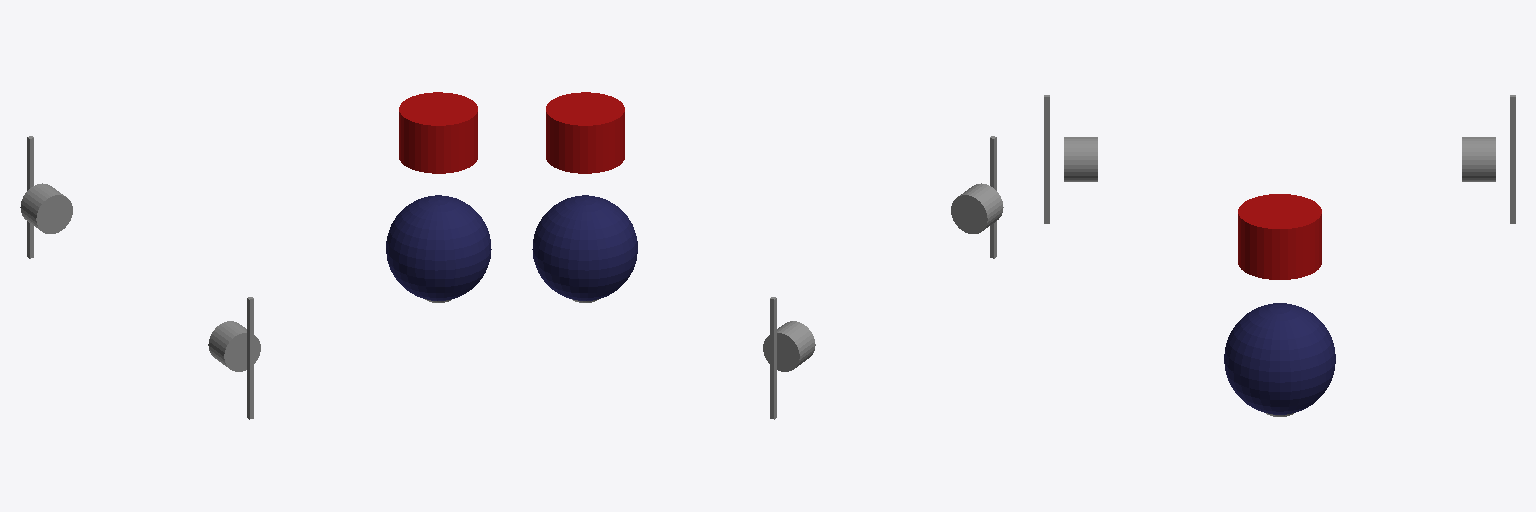
URDF robot description (robot):
<?xml version="1.0"?>

<robot name="robot">

    <!-- Materials -->
    <gazebo reference="link_chassis">
        <visual>
            <material> <!-- Blue -->
                <ambient>0.0 0.0 1.0 1.0</ambient>
                <diffuse>0.0 0.0 1.0 1.0</diffuse>
                <specular>0.0 0.0 0.0 1.0</specular>
                <emissive>0.0 0.0 0.0 1.0</emissive>
            </material>
        </visual>
    </gazebo>
    <gazebo reference="link_caster_wheel">
        <visual>
            <material> <!-- Gray -->
                <ambient>0.25 0.25 0.25 1.0</ambient>
                <diffuse>0.25 0.25 0.25 1.0</diffuse>
                <specular>0.0 0.0 0.0 1.0</specular>
                <emissive>0.0 0.0 0.0 1.0</emissive>
            </material>
        </visual>
        <collision>
            <surface>
                <friction>
                    <ode>
                        <mu>0.0</mu>
                        <mu2>0.0</mu2>
                    </ode>
                </friction>
            </surface>
        </collision>
    </gazebo>
    <gazebo reference="link_left_wheel">
        <visual>
            <material> <!-- Black -->
                <ambient>0.1 0.1 0.1 1.0</ambient>
                <diffuse>0.1 0.1 0.1 1.0</diffuse>
                <specular>0.0 0.0 0.0 1.0</specular>
                <emissive>0.0 0.0 0.0 1.0</emissive>
            </material>
        </visual>
        <collision>
            <surface>
                <friction>
                    <ode>
                        <mu>1.0</mu>
                        <mu2>1.0</mu2>
                    </ode>
                </friction>
            </surface>
        </collision>
    </gazebo>
    <gazebo reference="link_right_wheel">
        <visual>
            <material> <!-- Black -->
                <ambient>0.1 0.1 0.1 1.0</ambient>
                <diffuse>0.1 0.1 0.1 1.0</diffuse>
                <specular>0.0 0.0 0.0 1.0</specular>
                <emissive>0.0 0.0 0.0 1.0</emissive>
            </material>
        </visual>
        <collision>
            <surface>
                <friction>
                    <ode>
                        <mu>1.0</mu>
                        <mu2>1.0</mu2>
                    </ode>
                </friction>
            </surface>
        </collision>
    </gazebo>

    <!-- Link - chassis -->
    <link name="link_chassis">
        <inertial>
            <mass value="10" />
            <origin xyz="0 0 0.3" rpy="0 0 0" />
            <inertia ixx="1.5417" ixy="0" ixz="0" iyy="3.467" iyz="0" izz="4.742" />
        </inertial>

        <collision>
            <!-- <geometry>
                <box size="2 1.3 0.4" />
            </geometry> -->
            <geometry>
                <mesh filename="package://robot_description/meshes/chassis.stl" />
            </geometry>
        </collision>

        <visual>
            <geometry>
                <mesh filename="package://robot_description/meshes/chassis.stl" />
            </geometry>
            <!-- <geometry>
                <box size="2 1.3 0.4" />
            </geometry> -->
            <material name="DarkBlue">
                <color rgba="0.2 0.2 0.4 1" />
            </material>
        </visual>
    </link>

    <!-- Joint - caster wheel -->
    <joint name="joint_chassis_caster_wheel" type="fixed">
        <origin rpy="0 0 0" xyz="0.8 0 -0.15" />
        <child link="link_caster_wheel" />
        <parent link="link_chassis" />
        <joint_properties damping="1.0" friction="1.0" />
    </joint>

    <gazebo reference="joint_chassis_caster_wheel">
        <preserveFixedJoint>true</preserveFixedJoint>
    </gazebo>
    
    <!-- Link - caster wheel -->
    <link name="link_caster_wheel">
        <inertial>
            <mass value="1" />
            <origin xyz="0 0 0" rpy="0 0 0" />
            <inertia ixx="0.002526666666667" ixy="0" ixz="0" iyy="0.002526666666667" iyz="0" izz="0.005"/>
        </inertial>

        <!-- Caster wheel support -->
        <collision>
            <origin rpy="0 0 0" xyz="0 0 -0.03" />
            <geometry>
                <sphere radius="0.2" />
            </geometry>
        </collision>
        <visual>
            <origin rpy="0 0 0" xyz="0 0 -0.03" />
            <geometry>
                <sphere radius="0.2" />
            </geometry>
            <material name="DarkBlue">
                <color rgba="0.2 0.2 0.4 1" />
            </material>
        </visual>

        <!-- Caster wheel -->
        <collision>
            <origin rpy="0 0 0" xyz="0 0 -0.15" />
            <geometry>
                <sphere radius="0.10" />
            </geometry>
        </collision>
        <visual>
            <origin rpy="0 0 0" xyz="0 0 -0.15" />
            <geometry>
                <sphere radius="0.10" />
            </geometry>
            <material name="Grey">
                <color rgba="0.6 0.6 0.6 1" />
            </material>
        </visual>
    </link>

    <!-- Joint - chassis / left wheel -->
    <joint name="joint_chassis_left_wheel" type="continuous">
        <origin rpy="0 0 0" xyz="-0.5 0.65 0" />
        <child link="link_left_wheel" />
        <parent link="link_chassis" />
        <axis rpy="0 0 0" xyz="0 1 0" />
        <limit effort="10000" velocity="1000" />
        <joint_properties damping="1.0" friction="1.0" />
    </joint>
    
    <!-- Link - left wheel -->
    <link name="link_left_wheel">
        <inertial>
            <mass value="1" />
            <origin xyz="0 0 0" rpy="0 0 0" />
            <inertia ixx="0.002526666666667" ixy="0" ixz="0" iyy="0.002526666666667" iyz="0" izz="0.005"/>
        </inertial>

        <!-- Tires -->
        <collision>
            <origin rpy="1.5707 0 0" xyz="0 0.18 0" />
            <geometry>
                <cylinder length="0.12" radius="0.4"/>
            </geometry>
        </collision>
        <visual>
            <origin rpy="1.5707 0 0" xyz="0 0.18 0" />
            <geometry>
                <mesh filename="package://robot_description/meshes/wheel.stl" />
            </geometry>
            <material name="Black">
                <color rgba="0.1 0.1 0.1 1" />
            </material>
        </visual>

        <!-- Axle -->
        <collision>
            <origin rpy="1.5707 0 0" xyz="0 0.06 0" />
            <geometry>
                <cylinder length="0.12" radius="0.08"/>
            </geometry>
        </collision>
        <visual>
            <origin rpy="1.5707 0 0" xyz="0 0.06 0" />
            <geometry>
                <cylinder length="0.12" radius="0.08"/>
            </geometry>
            <material name="Grey">
                <color rgba="0.6 0.6 0.6 1" />
            </material>
        </visual>

        <!-- Hubcap -->
        <visual>
            <origin rpy="1.5707 0 0" xyz="0 0.18 0" />
            <geometry>
                <box size="0.02 0.5 0.02" />
            </geometry>
            <material name="Grey">
                <color rgba="0.6 0.6 0.6 1" />
            </material>
        </visual>
    </link>

    <!-- Joint - chassis / right wheel -->
    <joint name="joint_chassis_right_wheel" type="continuous">
        <origin rpy="0 0 0" xyz="-0.5 -0.65 0" />
        <child link="link_right_wheel" />
        <parent link="link_chassis" />
        <axis rpy="0 0 0" xyz="0 1 0" />
        <limit effort="10000" velocity="1000" />
        <joint_properties damping="1.0" friction="1.0" />
    </joint>
    
    <!-- Link - right wheel -->
    <link name="link_right_wheel">
        <inertial>
            <mass value="1" />
            <origin xyz="0 0 0" rpy="0 0 0" />
            <inertia ixx="0.002526666666667" ixy="0" ixz="0" iyy="0.002526666666667" iyz="0" izz="0.005"/>
        </inertial>

        <!-- Tires -->
        <collision>
            <origin rpy="1.5707 0 0" xyz="0 -0.18 0" />
            <geometry>
                <cylinder length="0.12" radius="0.4"/>
            </geometry>
        </collision>
        <visual>
            <origin rpy="1.5707 0 0" xyz="0 -0.18 0" />
            <geometry>
                <mesh filename="package://robot_description/meshes/wheel.stl" />
            </geometry>
            <material name="Black">
                <color rgba="0.1 0.1 0.1 1" />
            </material>
        </visual>

        <!-- Axle -->
        <collision>
            <origin rpy="1.5707 0 0" xyz="0 -0.06 0" />
            <geometry>
                <cylinder length="0.12" radius="0.08"/>
            </geometry>
        </collision>
        <visual>
            <origin rpy="1.5707 0 0" xyz="0 -0.06 0" />
            <geometry>
                <cylinder length="0.12" radius="0.08"/>
            </geometry>
            <material name="Grey">
                <color rgba="0.6 0.6 0.6 1" />
            </material>
        </visual>

        <!-- Hubcap -->
        <visual>
            <origin rpy="1.5707 0 0" xyz="0 -0.18 0" />
            <geometry>
                <box size="0.02 0.5 0.02" />
            </geometry>
            <material name="Grey">
                <color rgba="0.6 0.6 0.6 1" />
            </material>
        </visual>
    </link>
    <!-- Differential Drive Plugin -->
    <gazebo>
        <plugin
            filename="libignition-gazebo-diff-drive-system.so"
            name="ignition::gazebo::systems::DiffDrive">
            <left_joint>joint_chassis_left_wheel</left_joint>
            <right_joint>joint_chassis_right_wheel</right_joint>
            <wheel_separation>1.66</wheel_separation>
            <wheel_radius>0.4</wheel_radius>
            <odom_publish_frequency>20</odom_publish_frequency>
            <topic>cmd_vel</topic>
            <odom_topic>odom</odom_topic>
            <tf_topic>tf</tf_topic>
            <frame_id>odom</frame_id>
            <child_frame_id>link_chassis</child_frame_id>
        </plugin>
    </gazebo>

    <!-- Gazebo tags - Laser scan -->
    <gazebo reference="joint_laser_scan_chassis">
        <preserveFixedJoint>true</preserveFixedJoint>
    </gazebo>
    <gazebo reference="link_laser_scan">
        <material>Gazebo/DarkGrey</material>
    </gazebo>

    <!-- Laser scan -->
    <joint name="joint_laser_scan_chassis" type="fixed">
        <origin rpy="0 0 0" xyz="0.8 0 0.3" />
        <child link="link_laser_scan" />
        <parent link="link_chassis" />
        <joint_properties damping="1.0" friction="1.0" />
    </joint>
    <link name="link_laser_scan">
        <inertial>
            <origin xyz="0 0 0" rpy="0 0 0" />
            <mass value="0.5" />
            <inertia ixx="0.000252666666667" ixy="0" ixz="0" iyy="0.000252666666667" iyz="0" izz="0.0005"/>
        </inertial>
        <visual>
            <origin xyz="0 0 0" rpy="0 0 0" />
            <geometry>
                <cylinder radius="0.15" length="0.20"/>
            </geometry>
            <material name="Red">
                <color rgba="0.7 0.1 0.1 1" />
            </material>
        </visual>
        <collision>
            <origin xyz="0 0 0" rpy="0 0 0"/>
            <geometry>
                <cylinder radius="0.15" length="0.20"/>
            </geometry>
        </collision>
    </link>

    <!-- Laser Scanner Plugin -->
    <gazebo>
        <plugin
        filename="libignition-gazebo-sensors-system"
        name="ignition::gazebo::systems::Sensors">
        <!-- use ogre2 if ogre v2.x is installed, otherwise use ogre -->
        <render_engine>ogre2</render_engine>
        </plugin>
    </gazebo>
    <gazebo reference="link_laser_scan">
        <sensor type="gpu_lidar" name="head_hokuyo_sensor">
            <pose relative_to='lidar_frame'>0 0 0 0 0 0</pose>
            <always_on>1</always_on>
            <visualize>true</visualize>
            <update_rate>20</update_rate>
            <topic>/laser/scan</topic>
            <ray>
                <scan>
                    <horizontal>
                        <samples>720</samples>
                        <resolution>1</resolution>
                        <min_angle>-1.570796</min_angle>
                        <max_angle>1.570796</max_angle>
                    </horizontal>
                </scan>
                <range>
                    <min>0.20</min>
                    <max>10.0</max>
                    <resolution>0.01</resolution>
                </range>
                <noise>
                    <type>gaussian</type>
                    <mean>0.0</mean>
                    <stddev>0.01</stddev>
                </noise>
            </ray>
        </sensor>
    </gazebo>

    <!-- IMU Plugin -->
    <gazebo>
        <plugin filename="libignition-gazebo-imu-system"
            name="ignition::gazebo::systems::Imu">
        </plugin>
    </gazebo>
    <gazebo reference="link_chassis">
        <sensor name="imu_sensor" type="imu">
            <always_on>1</always_on>
            <update_rate>20</update_rate>
            <visualize>true</visualize>
            <topic>imu</topic>
        </sensor>
    </gazebo>
</robot>

--- What the picture shows (computed from the rendered views, not written in the file) ---
3 views of the same robot in one strip: view 1: azimuth 30°, elevation 25°; view 2: azimuth 150°, elevation 25°; view 3: azimuth 270°, elevation 25° (orthographic).
Model robot with 5 links and 4 joints (2 continuous, 2 fixed), rooted at link_chassis, posed all joints at 0.
Links seen in each view (by area): view 1: link_caster_wheel, link_laser_scan, link_left_wheel, link_right_wheel; view 2: link_caster_wheel, link_laser_scan, link_left_wheel, link_right_wheel; view 3: link_caster_wheel, link_laser_scan, link_left_wheel, link_right_wheel.
Boxes of the visible links, x1,y1,x2,y2 form: link_caster_wheel: (386, 195, 491, 302); link_laser_scan: (399, 92, 477, 173); link_left_wheel: (20, 136, 72, 258); link_right_wheel: (208, 297, 260, 419); link_caster_wheel: (532, 195, 637, 302); link_laser_scan: (546, 92, 624, 173); link_left_wheel: (763, 297, 815, 419); link_right_wheel: (951, 136, 1003, 258); link_caster_wheel: (1224, 303, 1335, 416); link_laser_scan: (1238, 194, 1321, 279); link_left_wheel: (1462, 95, 1515, 223); link_right_wheel: (1044, 95, 1097, 223).
Size in the robot's own frame: 1.58 by 1.68 by 0.8 metres.
Meshes: 2 distinct files referenced, 0 mesh visuals loaded (none loaded); not drawn: 3 (file found but could not be loaded).